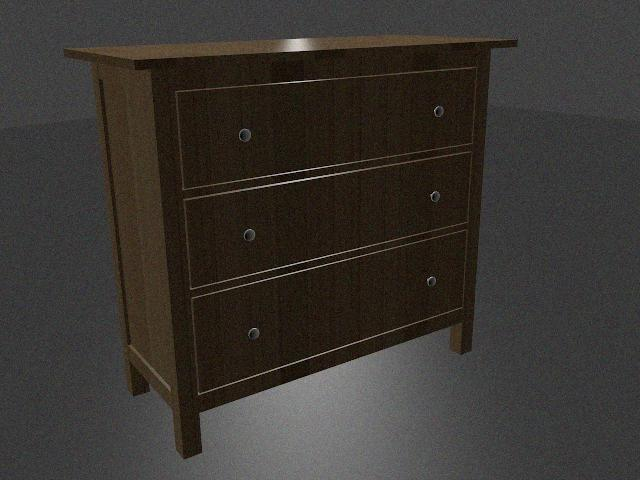cabinet_door: (180, 80, 474, 167), (195, 264, 465, 351), (188, 176, 470, 256)
handle: (237, 227, 259, 245), (242, 325, 262, 343), (429, 102, 446, 121), (420, 275, 440, 291), (426, 191, 444, 208), (235, 126, 251, 143)
